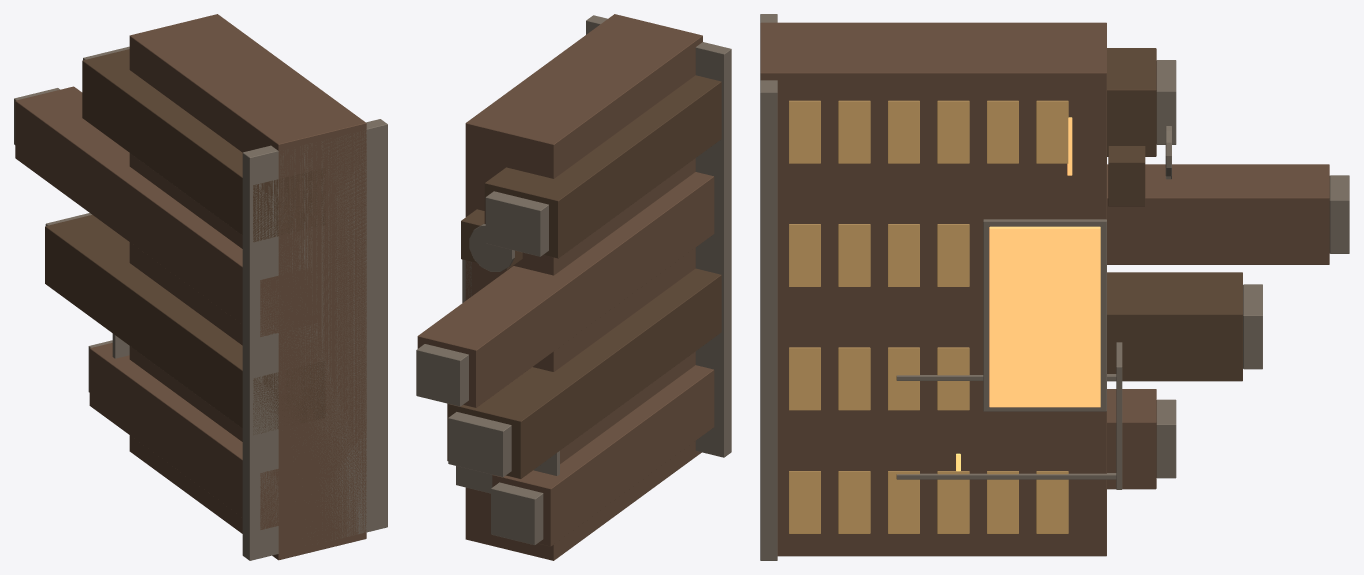
Rendered from far_facade_shell_canyon_l.glb.
3 renders of one model, left to right at view 1: azimuth 30°, elevation 25°; view 2: azimuth 150°, elevation 25°; view 3: azimuth 270°, elevation 25°, orthographic. The views are drawn at different scales.
Visible parts, largest first — view 1: FlightKit_FarFacadeMass_canyon_L; view 2: FlightKit_FarFacadeMass_canyon_L; view 3: FlightKit_FarFacadeMass_canyon_L.
Part boxes in pixels (bbox=[...]): FlightKit_FarFacadeMass_canyon_L: bbox=[14, 14, 387, 560]; FlightKit_FarFacadeMass_canyon_L: bbox=[416, 14, 731, 560]; FlightKit_FarFacadeMass_canyon_L: bbox=[760, 14, 1349, 560].
Size of the model in its own units: 7.5 by 21.56 by 23.8.
